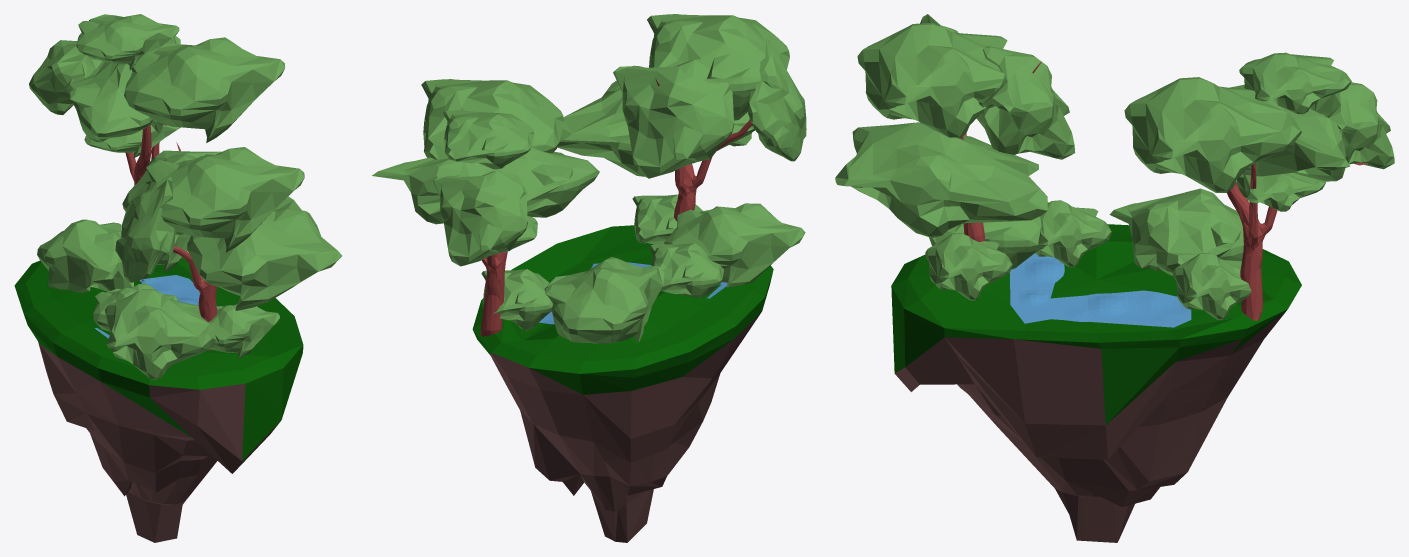
The model's file is floating_island.obj.
3 views of the same model, side by side, from view 1: azimuth 30°, elevation 25°; view 2: azimuth 150°, elevation 25°; view 3: azimuth 270°, elevation 25° (orthographic). The views are drawn at different scales.
Visible parts, largest first — view 1: pCube13.001; view 2: pCube13.001; view 3: pCube13.001.
Part boxes in pixels (x1=…): pCube13.001: x1=14, y1=14, x2=342, y2=542; pCube13.001: x1=372, y1=14, x2=806, y2=542; pCube13.001: x1=835, y1=14, x2=1394, y2=542.
Size of the model in its own units: 0.1225 by 0.1935 by 0.1928.
